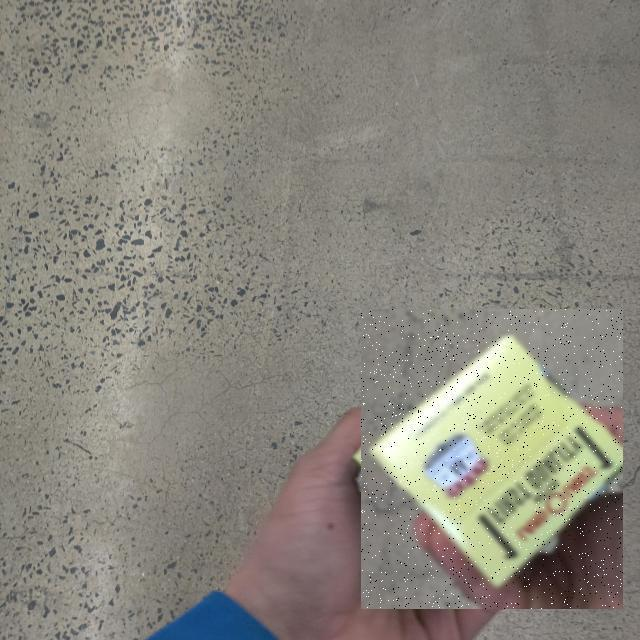Butter: (361, 309, 623, 609)
